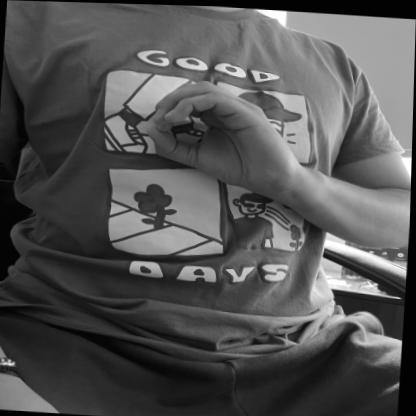O: (140, 70, 299, 195)
